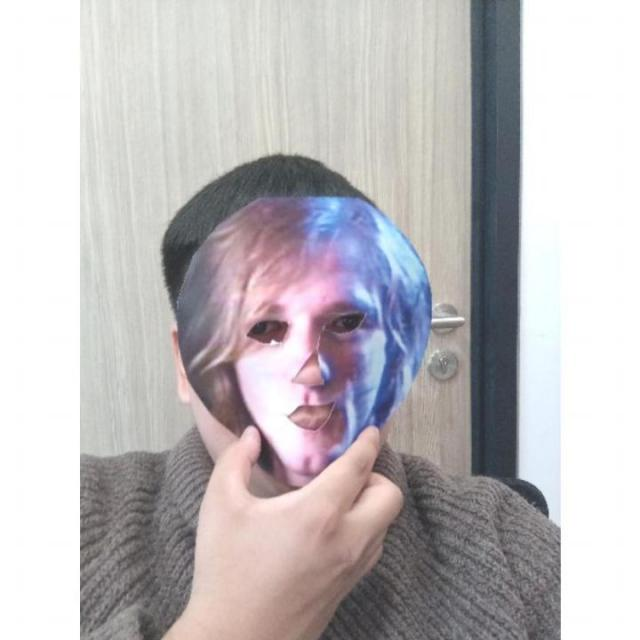mask: (174, 195, 434, 486)
